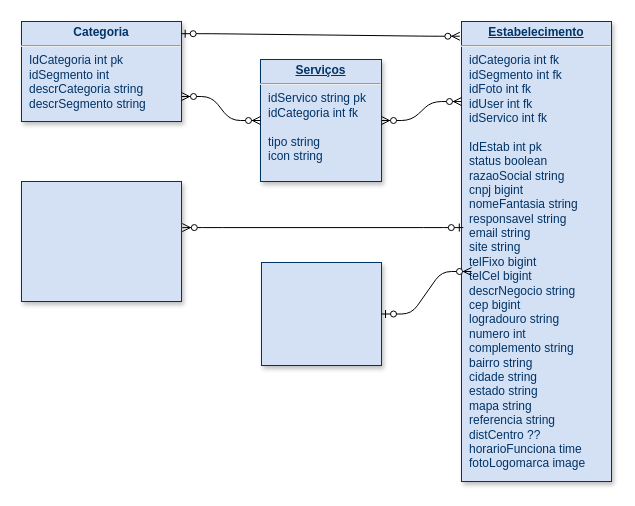
Some shapes in this 635 by 506 pixel diagram are drawn without their labels. Each missing label, with the centre of its shape:
Fotos idEstab int fk idFoto int pk urlFoto string descrFoto string: (102,242)
User (Login) IdUser int pk nome string email string senha string: (322,315)
